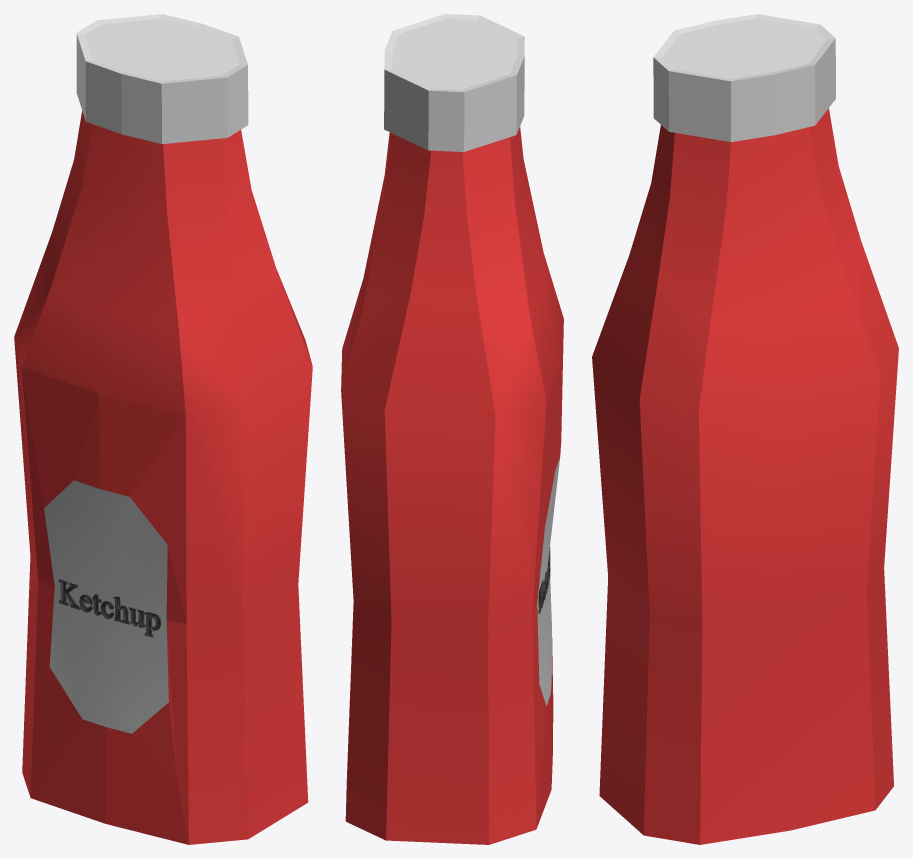
File: ketchup.glb
3 views of the same model, side by side, from view 1: azimuth 30°, elevation 25°; view 2: azimuth 150°, elevation 25°; view 3: azimuth 270°, elevation 25° (orthographic).
Visible parts, largest first — view 1: Cylinder002, Object001, Text001; view 2: Cylinder002, Object001; view 3: Cylinder002, Object001.
Part boxes in pixels (x1,y1,x2,y2): Cylinder002: [14, 111, 312, 844]; Object001: [44, 14, 248, 733]; Text001: [58, 579, 161, 637]; Cylinder002: [341, 127, 563, 844]; Object001: [384, 14, 560, 705]; Cylinder002: [592, 108, 898, 844]; Object001: [653, 14, 835, 141].
Bounding box in the file's own units: 306 × 913 × 342.
